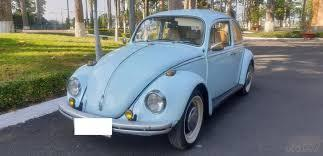volkswagen: (57, 7, 257, 150)
